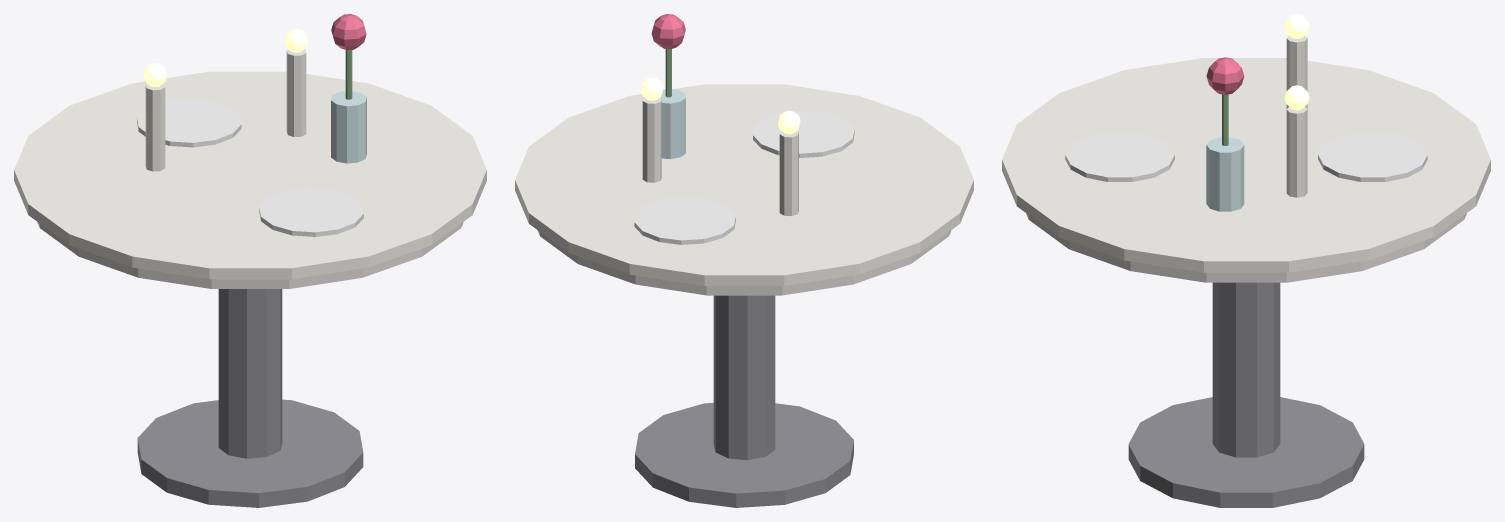
File: th_kerzentisch.glb
The picture shows the model from 3 angles, left to right: view 1: azimuth 30°, elevation 25°; view 2: azimuth 150°, elevation 25°; view 3: azimuth 270°, elevation 25°; orthographic projection. The views are drawn at different scales.
Parts seen in each view (by area): view 1: kerzentisch; view 2: kerzentisch; view 3: kerzentisch.
Boxes of the visible parts, left/top/right/bottom form: kerzentisch: left=14, top=14, right=486, bottom=507; kerzentisch: left=515, top=14, right=973, bottom=507; kerzentisch: left=1002, top=14, right=1490, bottom=507.
Size of the model in its own units: 1.14 by 1.16 by 1.16.
